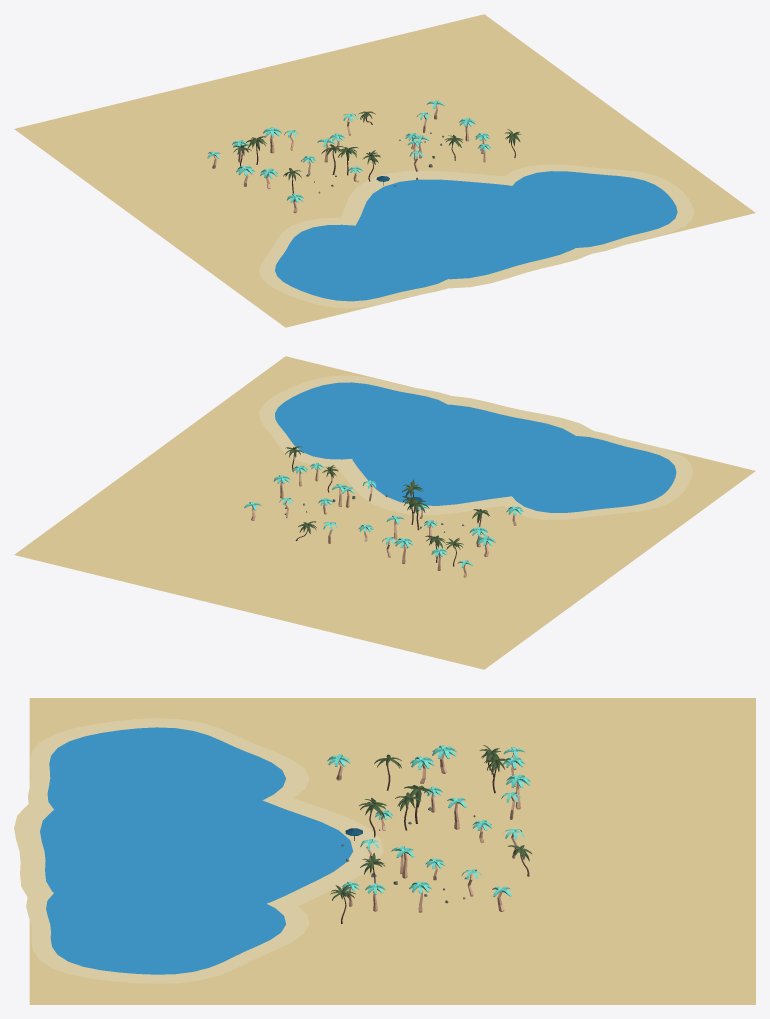
The model's file is env_beach.glb.
3 renders of one model, top to bottom at view 1: azimuth 30°, elevation 25°; view 2: azimuth 150°, elevation 25°; view 3: azimuth 270°, elevation 25°, orthographic. The views are drawn at different scales.
Visible parts, largest first — view 1: ground, pond_0, pond_2, pond_1, shore_0, shore_2, shore_1; view 2: ground, pond_0, pond_2, pond_1, shore_0, shore_1, shore_2; view 3: ground, pond_0, pond_2, pond_1, shore_0, shore_2, shore_1.
Boxes of the visible parts, x1,y1,x2,y2 form: ground: (14,14,755,327); pond_0: (352,179,586,279); pond_2: (500,171,677,247); pond_1: (275,224,454,301); shore_0: (336,170,604,288); shore_2: (501,164,694,254); shore_1: (259,218,447,308); ground: (14,356,755,669); pond_0: (350,404,582,505); pond_2: (275,382,452,459); pond_1: (500,435,676,512); shore_0: (332,395,601,514); shore_1: (497,428,692,519); shore_2: (259,375,465,466); ground: (29,698,755,1004); pond_0: (40,785,353,915); pond_2: (46,875,285,974); pond_1: (47,727,285,827); shore_0: (14,791,383,912); shore_2: (26,882,309,983); shore_1: (28,718,309,819).
Bounding box in the file's own units: 160 × 9.84 × 163.
